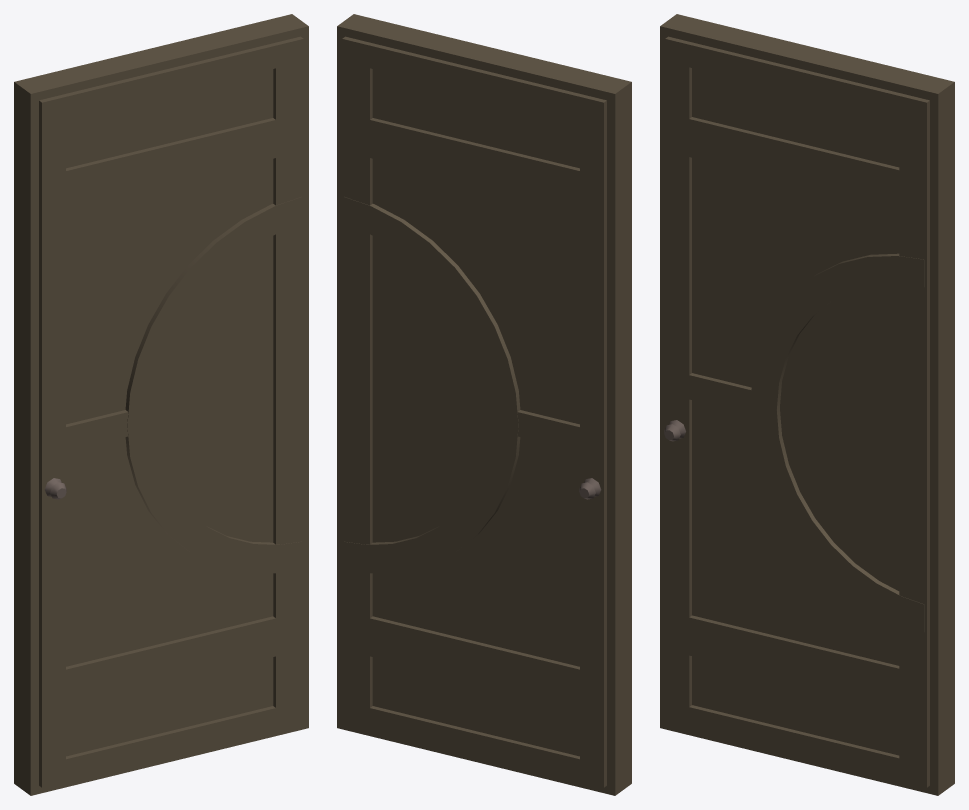
Rendered from door_3.glb.
3 renders of one model, left to right at view 1: azimuth 30°, elevation 25°; view 2: azimuth 150°, elevation 25°; view 3: azimuth 330°, elevation 25°, orthographic.
Visible parts, largest first — view 1: Door_3; view 2: Door_3; view 3: Door_3.
Part boxes in pixels (x1,y1,x2,y2): Door_3: (14,14,308,795); Door_3: (337,14,631,795); Door_3: (660,14,954,795).
Bounding box in the file's own units: 1.74 × 4.19 × 0.4159.
